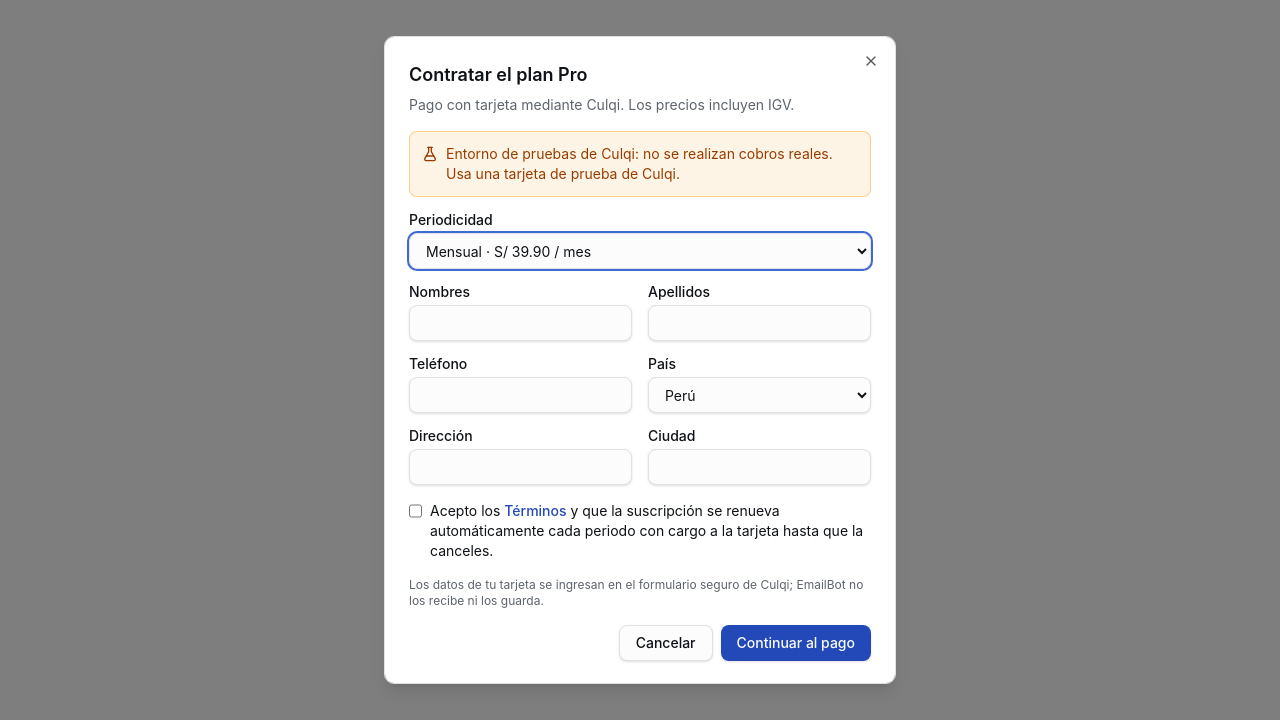
Test: choosing a plan › the terms must be accepted before Culqi's form opens
The image size is (1280, 720).
Expected: the dialog "Contratar el plan Pro" is shown, x1=384 y1=36 x2=896 y2=684
In the field labelled "Nombres": (520,323) x1=409 y1=305 x2=632 y2=341, type "Ana"
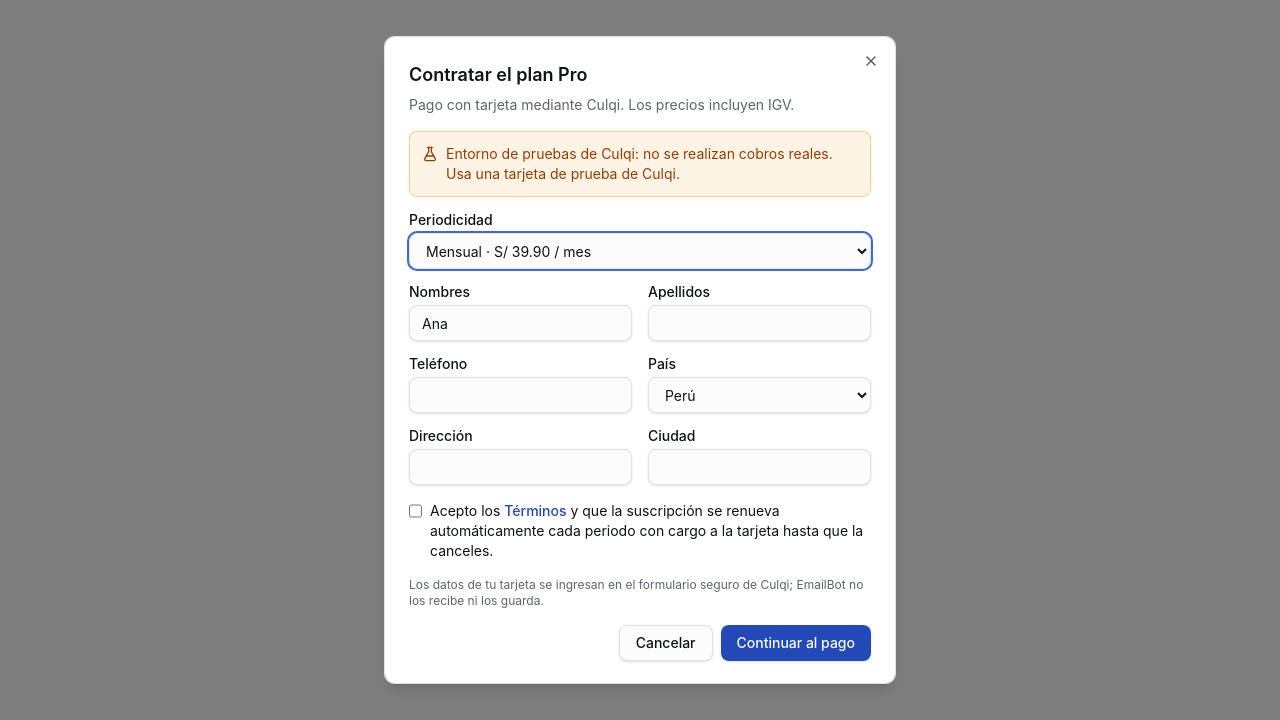
In the field labelled "Apellidos": (760,323) x1=648 y1=305 x2=871 y2=341, type "Pérez"
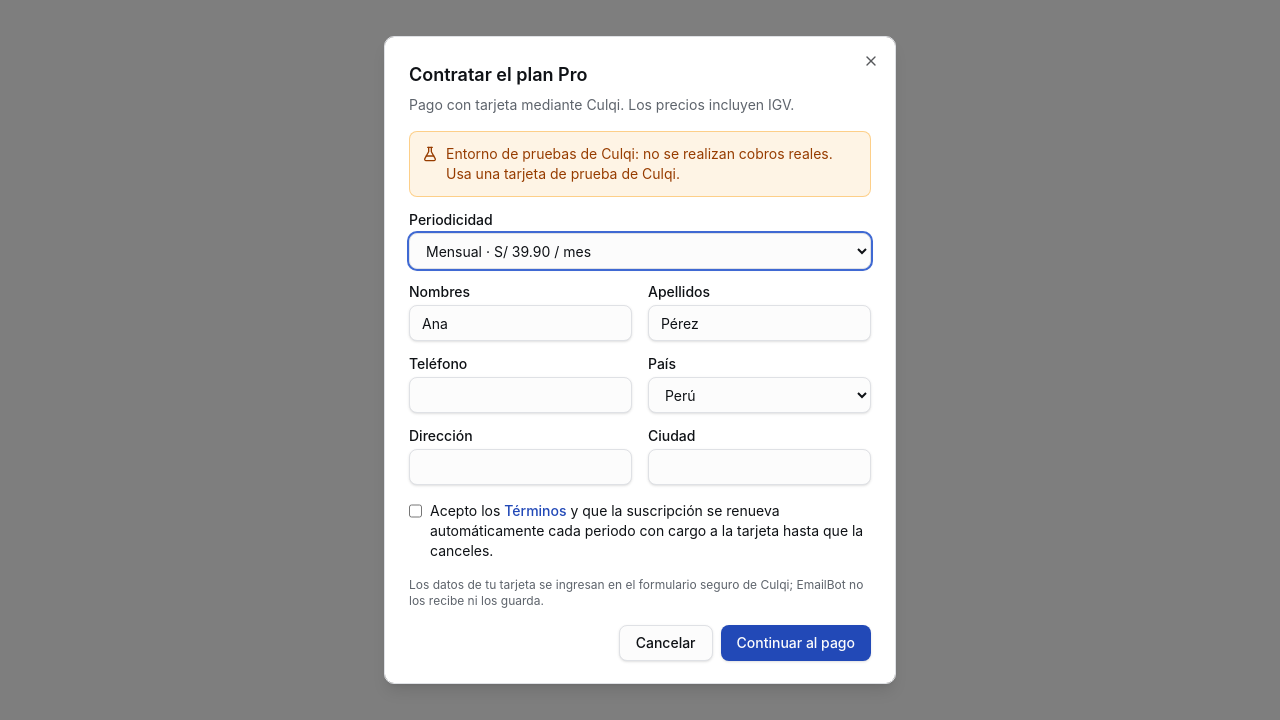
In the field labelled "Teléfono": (520,395) x1=409 y1=377 x2=632 y2=413, type "999888777"
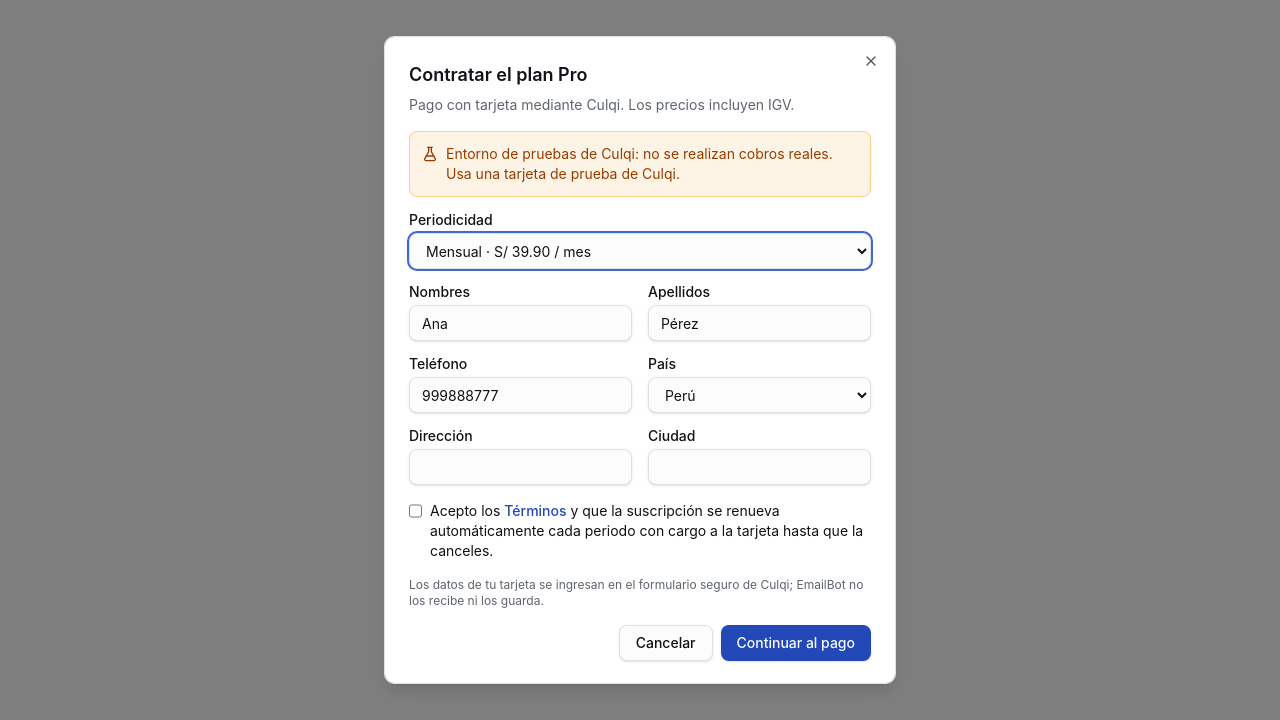
In the field labelled "Dirección": (520,467) x1=409 y1=449 x2=632 y2=485, type "Av. Lima 123"
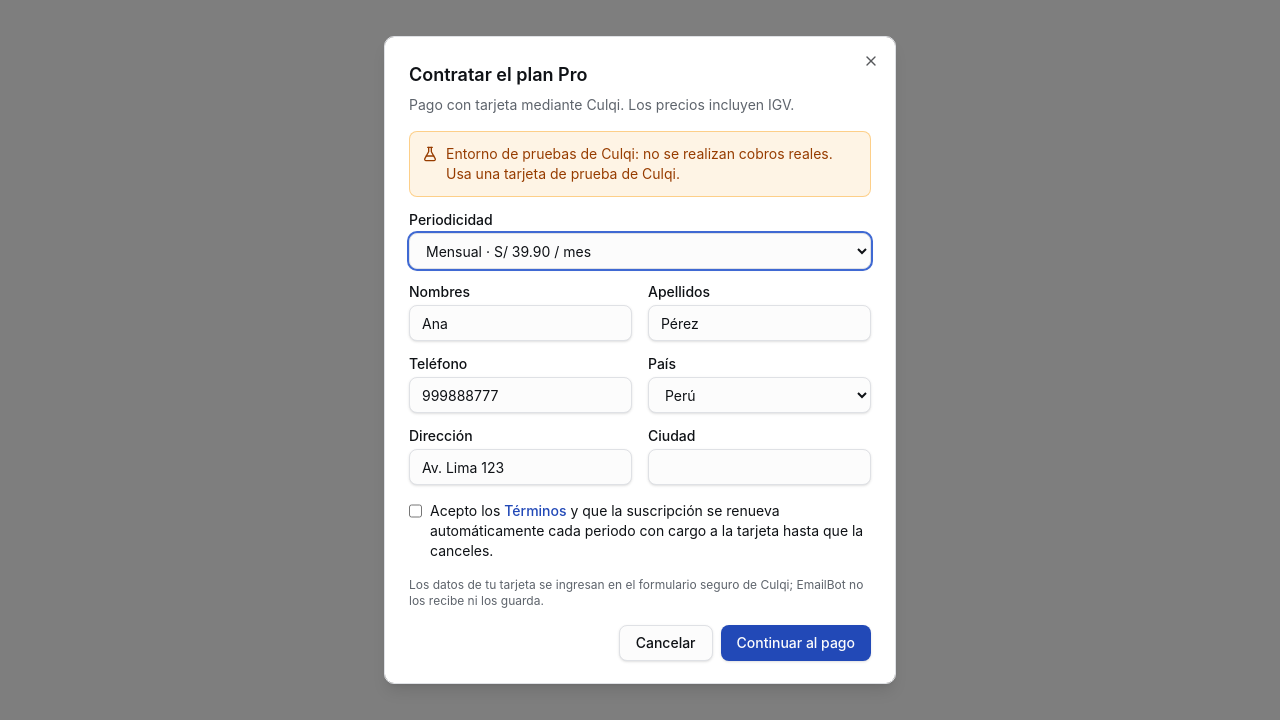
In the field labelled "Ciudad": (760,467) x1=648 y1=449 x2=871 y2=485, type "Lima"
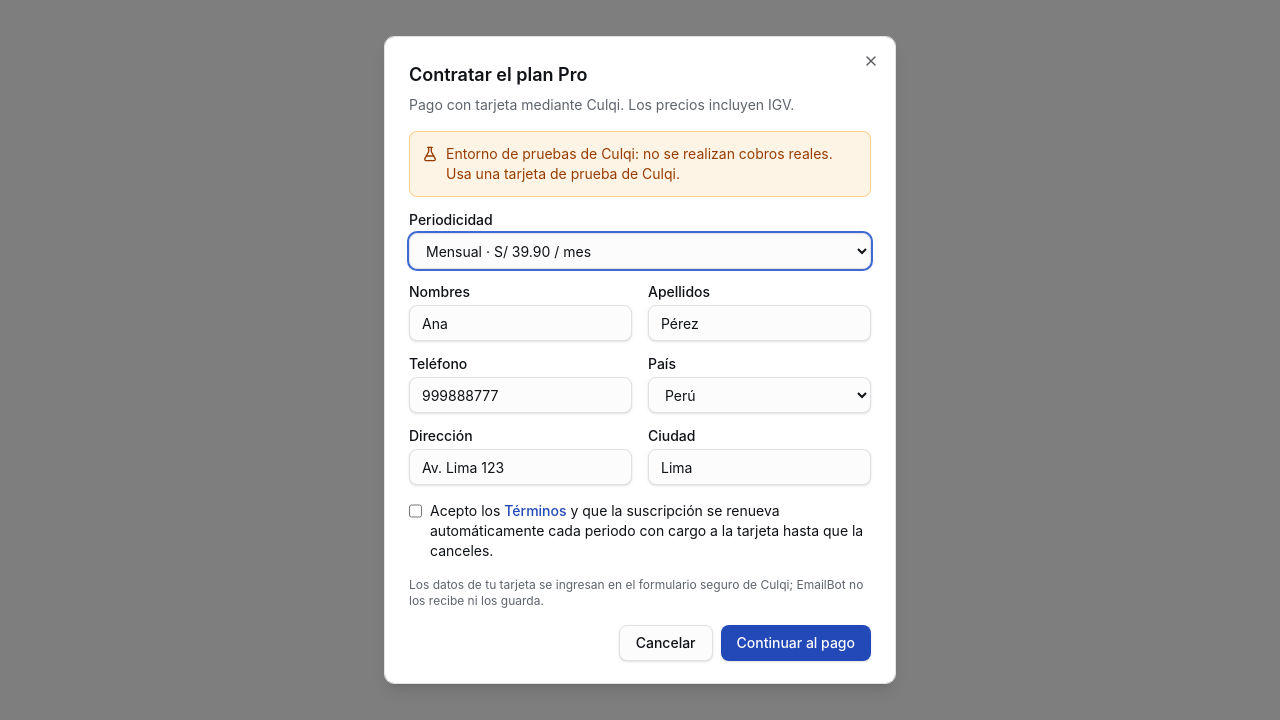
Click the button "Continuar al pago": (796,643) x1=720 y1=625 x2=871 y2=661
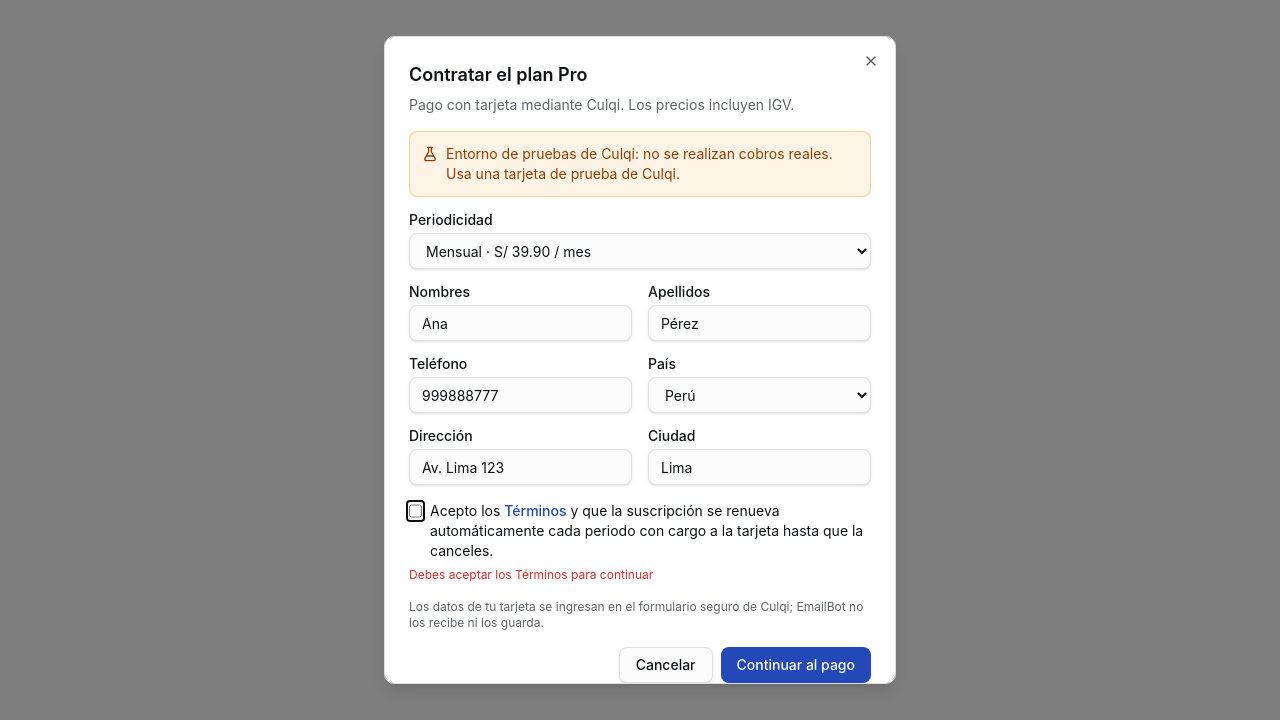
Now the text "Debes aceptar los Términos para continuar" is shown, box x1=409 y1=567 x2=653 y2=582
